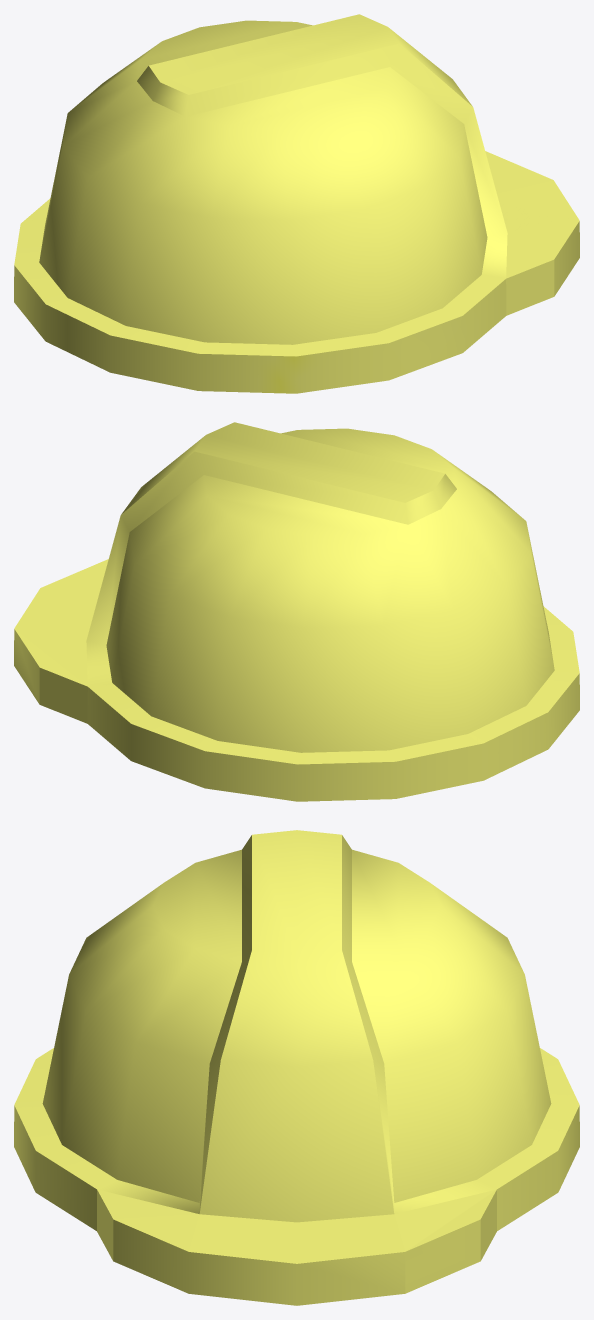
Rendered from Charakter_Builder_cup.FBX.
The picture shows the model from 3 angles, top to bottom: view 1: azimuth 30°, elevation 25°; view 2: azimuth 150°, elevation 25°; view 3: azimuth 270°, elevation 25°; orthographic projection. The views are drawn at different scales.
Parts seen in each view (by area): view 1: Charakter_Builder_cup; view 2: Charakter_Builder_cup; view 3: Charakter_Builder_cup.
Part boxes in pixels (x1,y1,x2,y2): Charakter_Builder_cup: (14, 14, 579, 393); Charakter_Builder_cup: (14, 422, 579, 801); Charakter_Builder_cup: (14, 830, 579, 1305).
Size of the model in its own units: 168 by 73.12 by 144.
